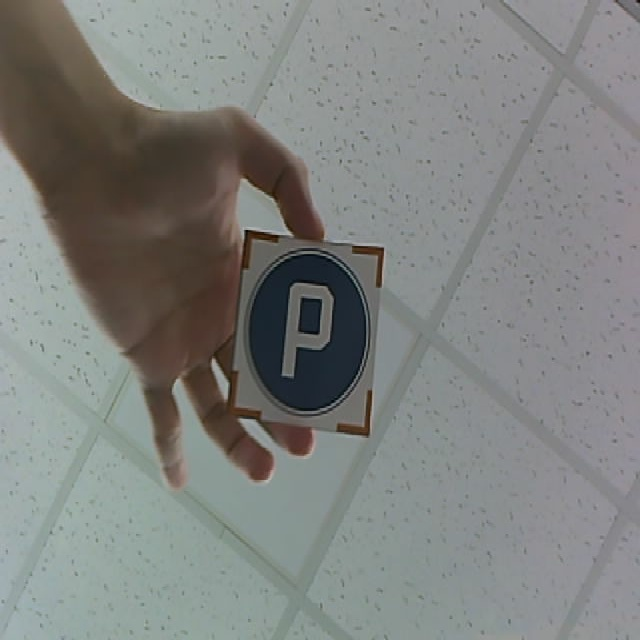parking: (227, 231, 384, 439)
